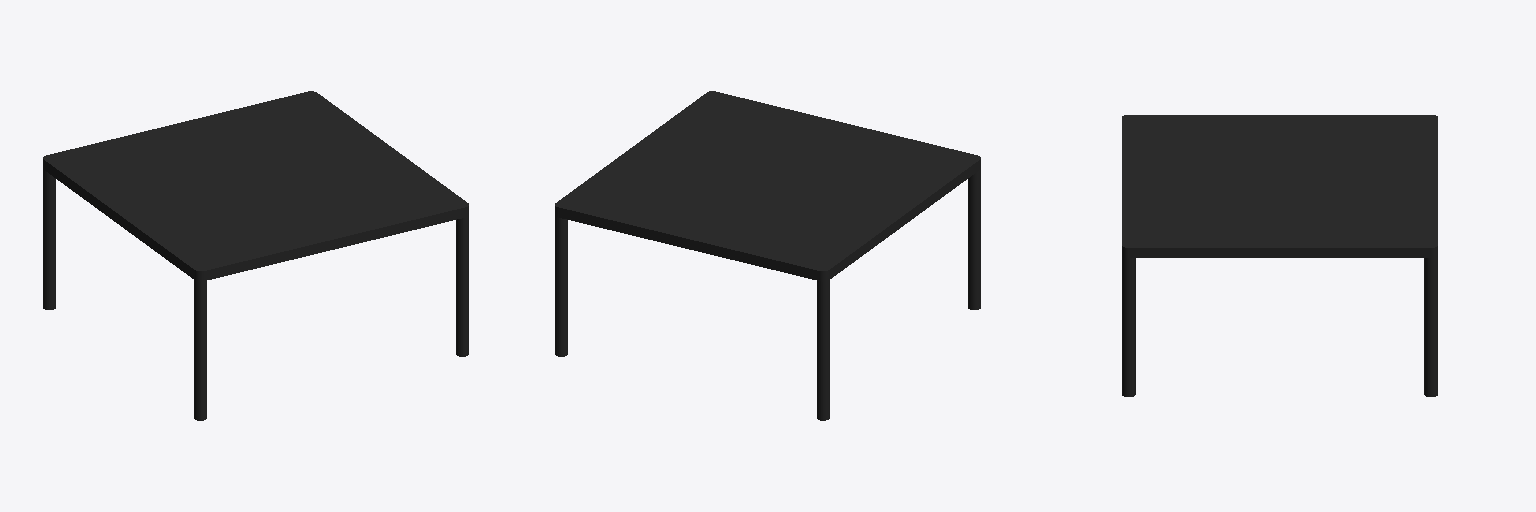
File: IKE160088.obj
3 renders of one model, left to right at view 1: azimuth 30°, elevation 25°; view 2: azimuth 150°, elevation 25°; view 3: azimuth 270°, elevation 25°, orthographic.
Visible parts, largest first — view 1: Line003, Circle002, Circle004, Circle001; view 2: Line003, Circle001, Circle003, Circle002; view 3: Line003, Circle003, Circle004.
Part boxes in pixels (x1,y1,x2,y2): Line003: (43,91,468,281); Circle002: (194,280,206,420); Circle004: (456,216,468,356); Circle001: (43,170,55,309); Line003: (555,91,980,281); Circle001: (817,280,829,420); Circle003: (555,216,567,356); Circle002: (968,170,980,309); Line003: (1122,115,1437,257); Circle003: (1424,257,1437,396); Circle004: (1122,257,1135,396).
Size of the model in its own units: 1400 by 730 by 1400.